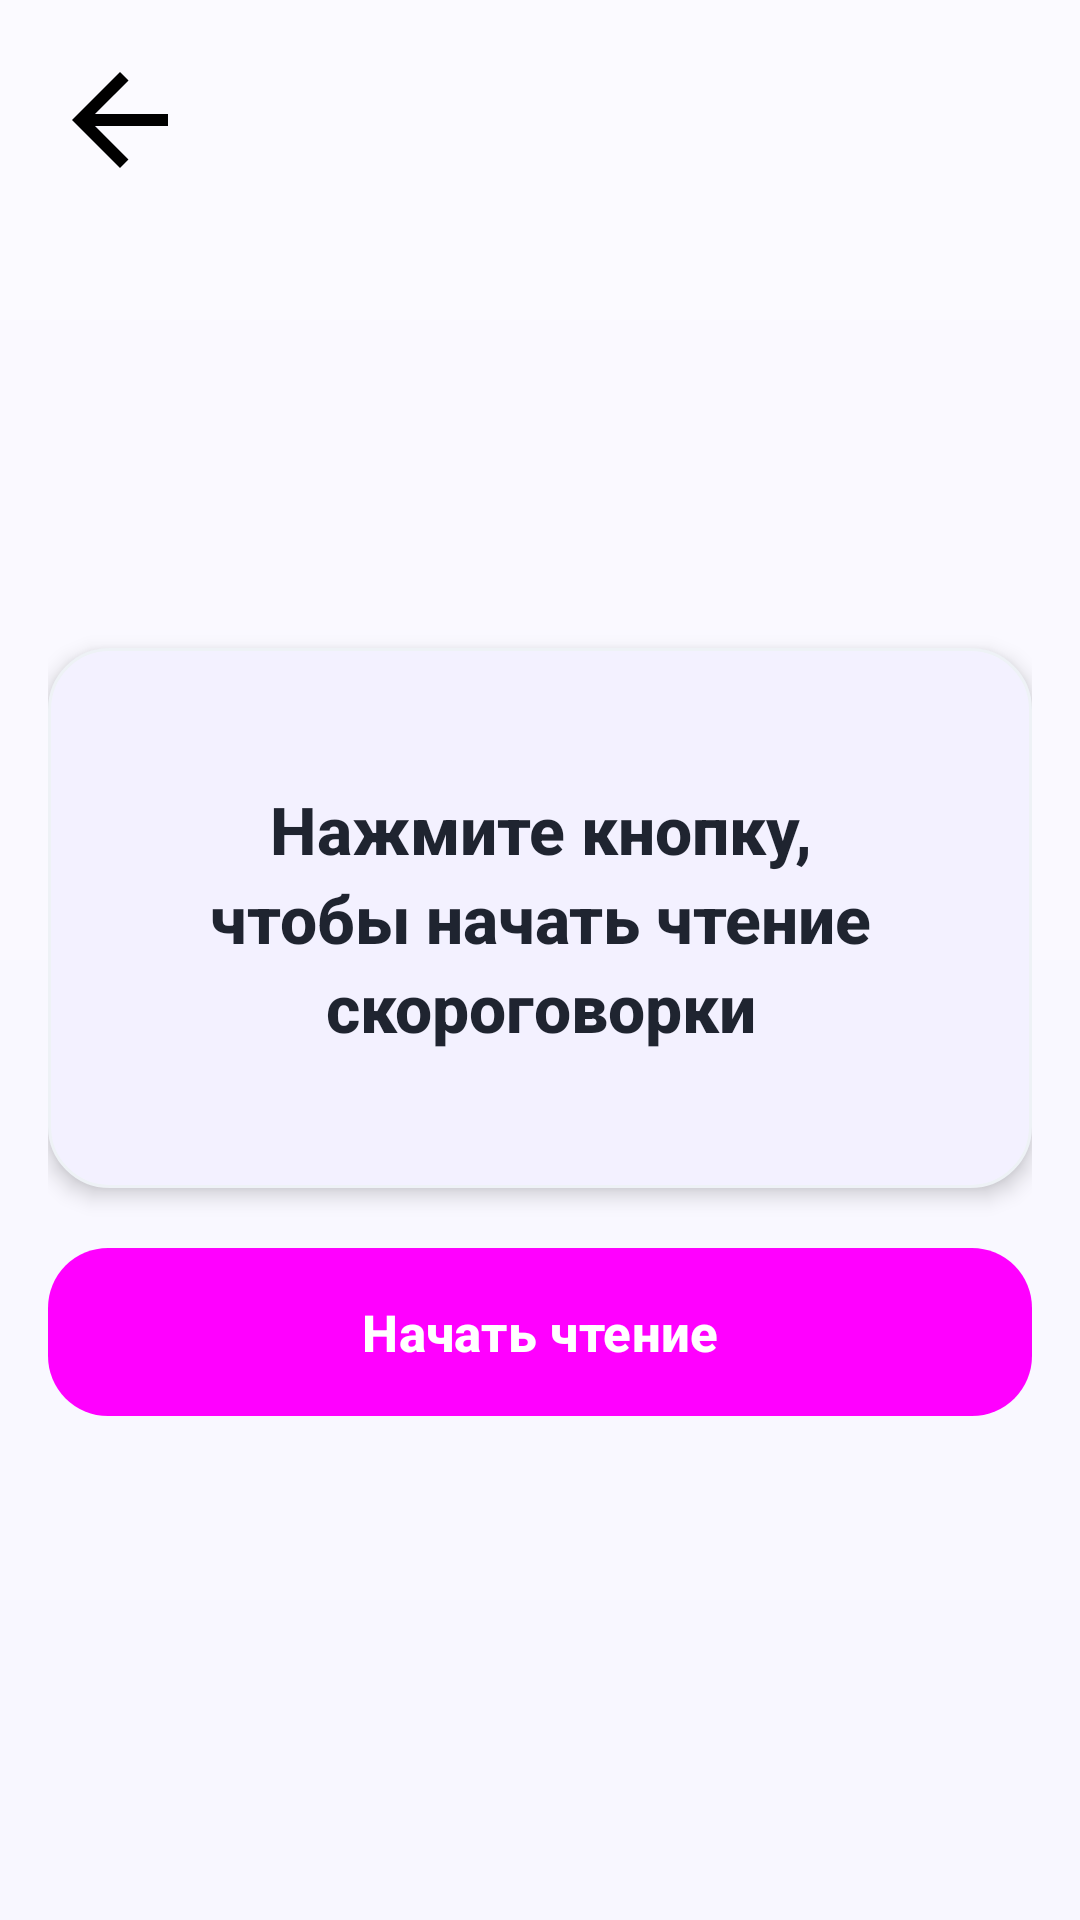

Screen size 1080 x 1920. Icon name, then its center in pixels as point (x, y):
Назад: point (120, 120)
